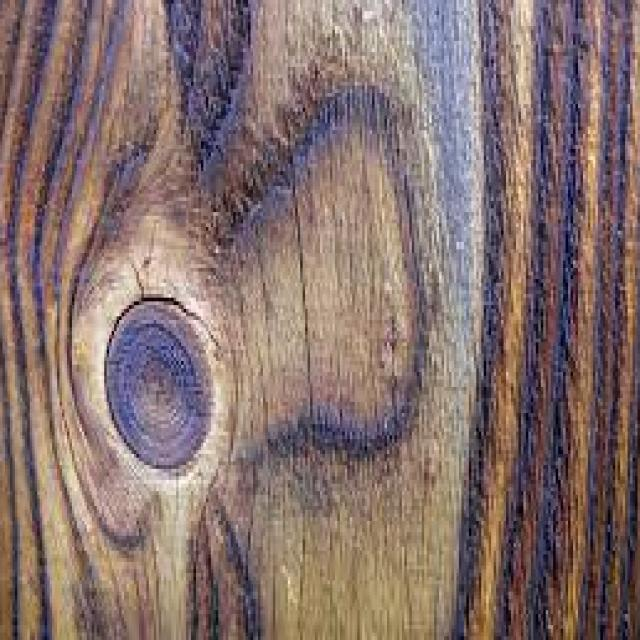have-wooden-eyes: (105, 301, 211, 468)
